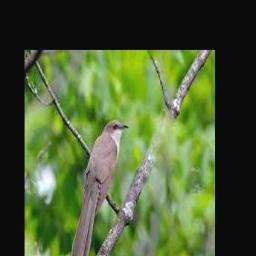Cuckoo: (71, 120, 129, 256)
